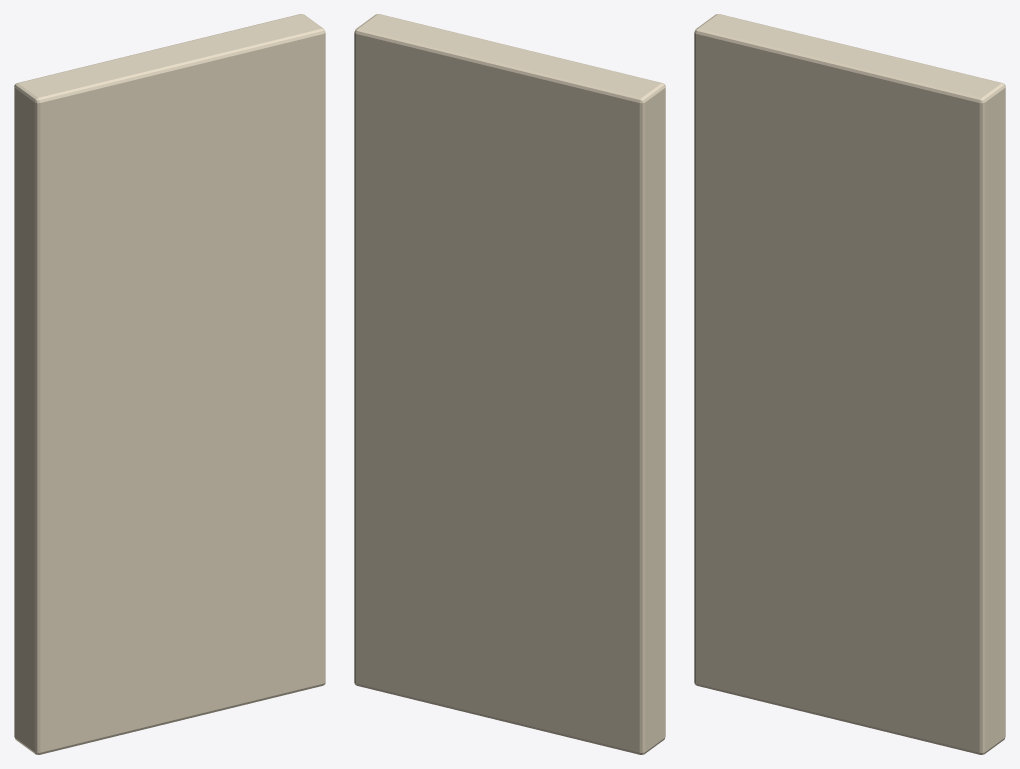
File: north_connector_cap.glb
The picture shows the model from 3 angles, left to right: view 1: azimuth 30°, elevation 25°; view 2: azimuth 150°, elevation 25°; view 3: azimuth 330°, elevation 25°; orthographic projection.
Visible parts, largest first — view 1: RemovableNorthConnectorCap_001-col; view 2: RemovableNorthConnectorCap_001-col; view 3: RemovableNorthConnectorCap_001-col.
Boxes of the visible parts, x1,y1,x2,y2 form: RemovableNorthConnectorCap_001-col: (14, 14, 325, 754); RemovableNorthConnectorCap_001-col: (354, 14, 665, 754); RemovableNorthConnectorCap_001-col: (694, 14, 1005, 754).
Size of the model in its own units: 1.25 by 2.7 by 0.18.
